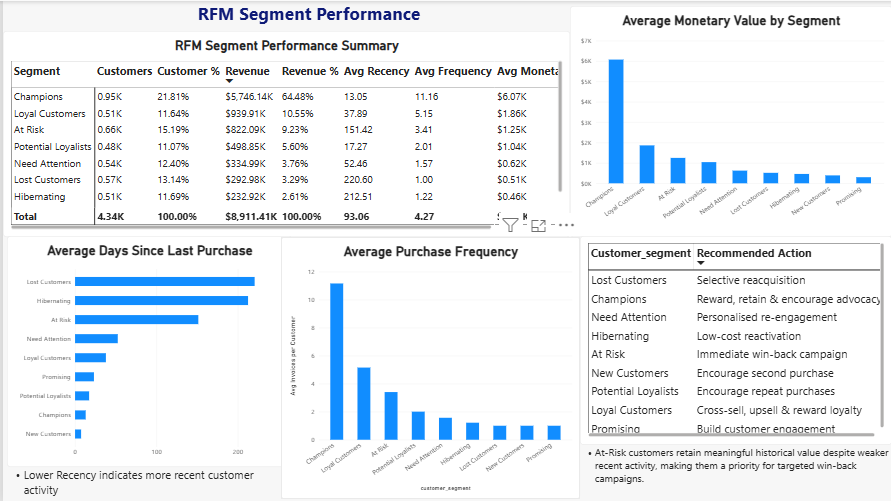

What the dashboard file says about the page in this screenshot:
{"tool":"powerbi","page":{"name":"Segment Analysis","canvas":[1920,1080],"ordinal":1},"visuals":[{"type":"pivotTable","title":"RFM Segment Performance Summary","fields":{"Rows":["RFM Customers.customer_segment"],"Values":["RFM Customers.Total Customers","RFM Customers.Segment Customer %","Clean Transactions.Total Revenue","RFM Customers.Segment Revenue %","RFM Customers.Average Recency","RFM Customers.Average Frequency","RFM Customers.Average Monetary"]},"box":[0,64.8,1224.7,445],"z":0},{"type":"clusteredColumnChart","title":"Average Monetary Value by Segment","fields":{"Category":["RFM Customers.customer_segment"],"Y":["RFM Customers.Average Monetary"]},"box":[1224.7,10.8,695.5,499],"z":1000},{"type":"barChart","title":"Average Days Since Last Purchase","fields":{"Category":["RFM Customers.customer_segment"],"Y":["RFM Customers.Average Recency"]},"box":[8.6,507.6,615.6,499],"z":2000},{"type":"columnChart","title":"Average Purchase Frequency","fields":{"Category":["RFM Customers.customer_segment"],"Y":["RFM Customers.Average Frequency"]},"box":[600.5,509.8,645.8,565.9],"z":3000},{"type":"tableEx","fields":{"Values":["RFM Customers.customer_segment","RFM Customers.Recommended Action"]},"box":[1246.3,507.6,673.9,451.4],"z":4000},{"type":"textbox","box":[0,0,1321.9,62.6],"z":5000},{"type":"textbox","box":[8.6,1006.6,591.8,69.1],"z":6000},{"type":"textbox","box":[1246.3,959,673.9,121],"z":7000}]}

Visuals, with their boxes in screenshot pixels (x1, y1, x2, y2), scaled from the page's 1920x1080 canvas onto the 891x501 screenshot:
"RFM Segment Performance Summary" pivotTable: <region>0, 30, 568, 236</region>
"Average Monetary Value by Segment" clusteredColumnChart: <region>568, 5, 890, 236</region>
"Average Days Since Last Purchase" barChart: <region>4, 235, 290, 467</region>
"Average Purchase Frequency" columnChart: <region>279, 236, 578, 499</region>
tableEx - RFM Customers.customer_segment x RFM Customers.Recommended Action: <region>578, 235, 890, 445</region>
textbox: <region>0, 0, 613, 29</region>
textbox: <region>4, 467, 279, 499</region>
textbox: <region>578, 445, 890, 500</region>
